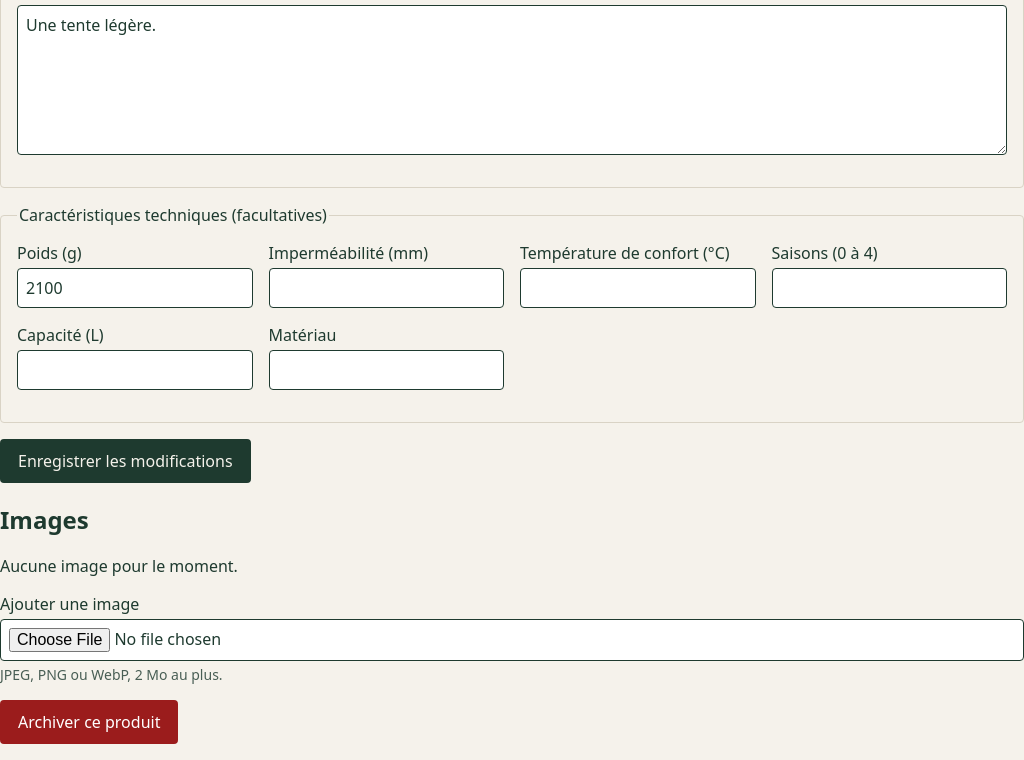
Test case: ProductForm – modification › archive après confirmation : le produit passe en lecture seule
This screenshot has width=1024, height=760.
(page scrolled)
Click the button "Archiver ce produit". click: (89, 722)
box: [0,700,178,744]
(page scrolled)
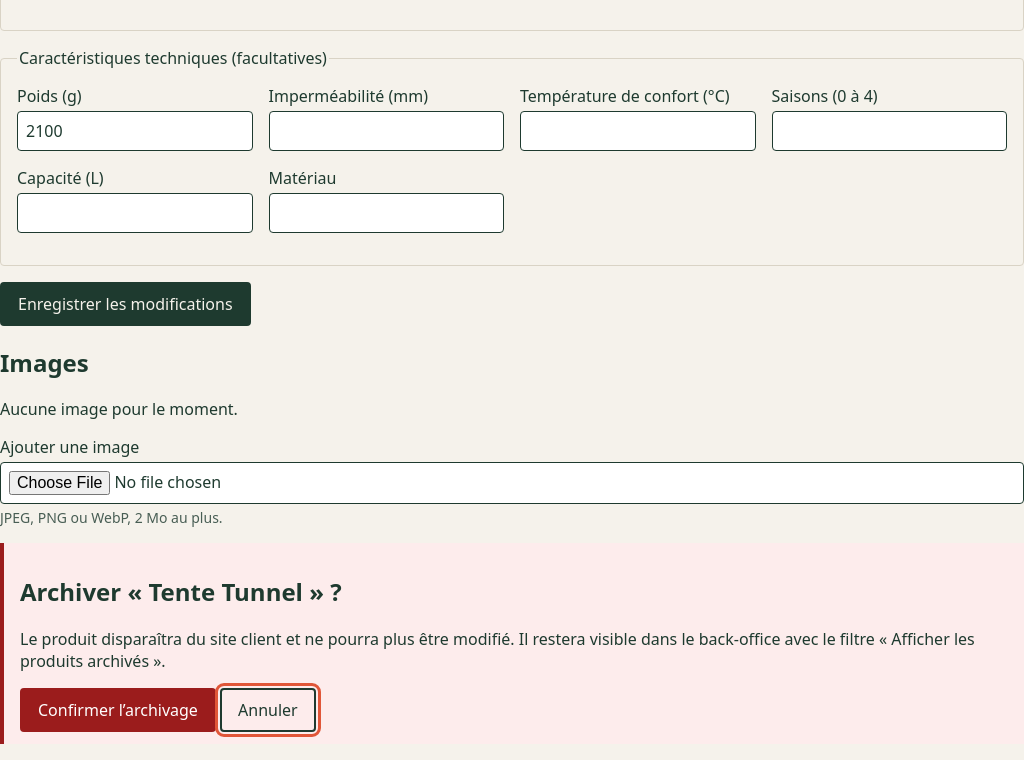
Click the button "Confirmer l’archivage". click: (118, 710)
box: [20,688,216,732]
(page scrolled)
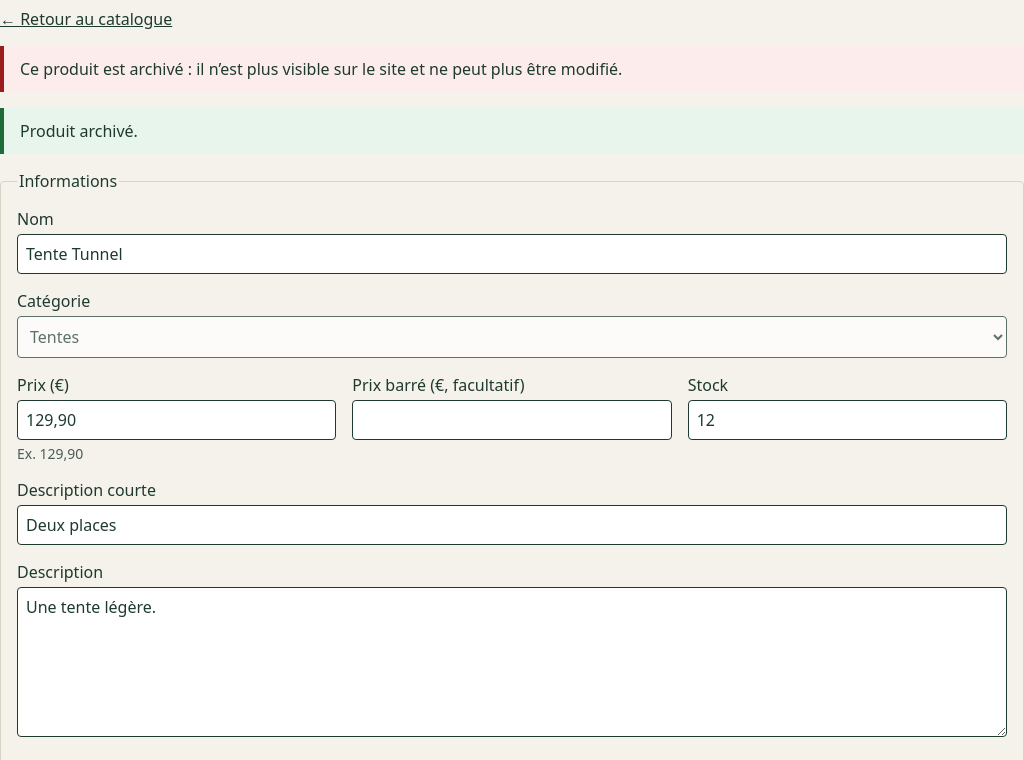
expect the field labelled "Nom" is disabled: met, box [17,234,1007,274]
expect the text "Produit archivé." is shown: met, box [0,108,1023,154]
